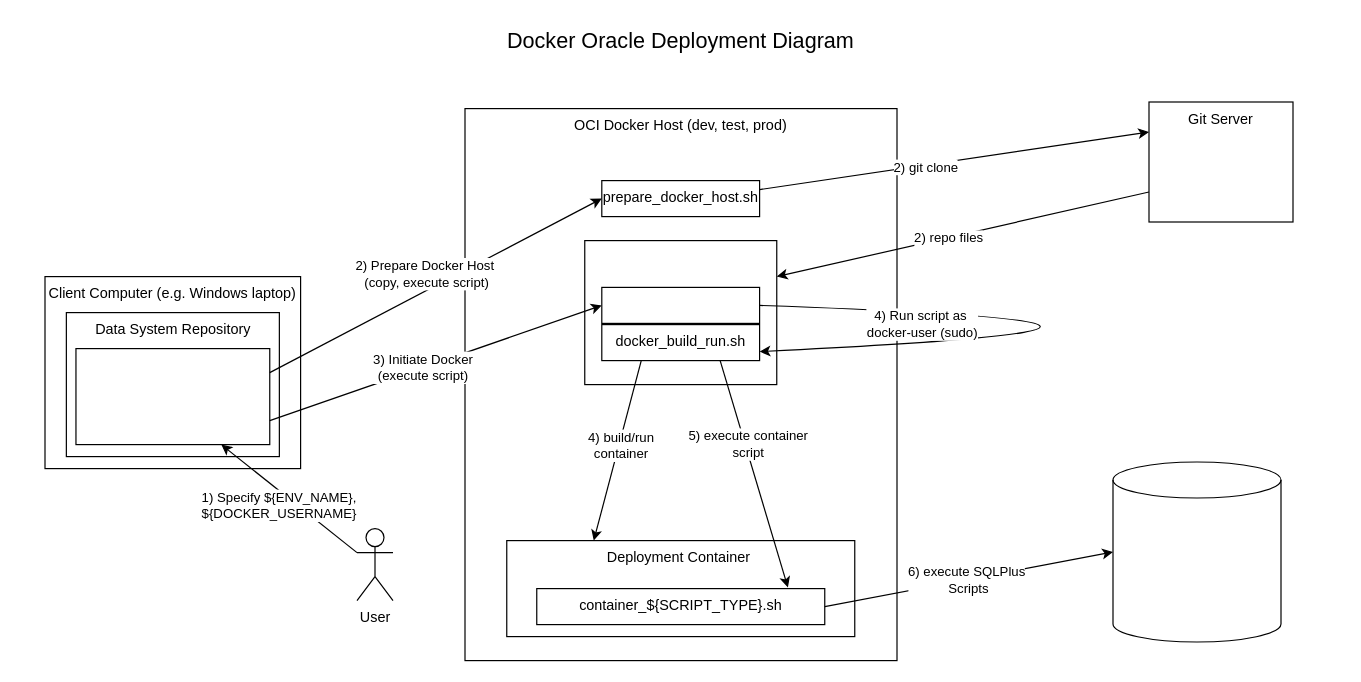
Some shapes in this 1361 by 682 pixel diagram are drawn without their labels. The shapes that lost their labels are listed below. From the top down, each one's box as (x1, y1, x2, y2) in pixels, then its label:
(601, 286, 760, 323): intiate_docker.sh
(584, 239, 777, 385): git working copy
(75, 347, 270, 445): ${SCRIPT_TYPE}.sh
(1112, 461, 1281, 642): OCI ${ENV_NAME} DB
